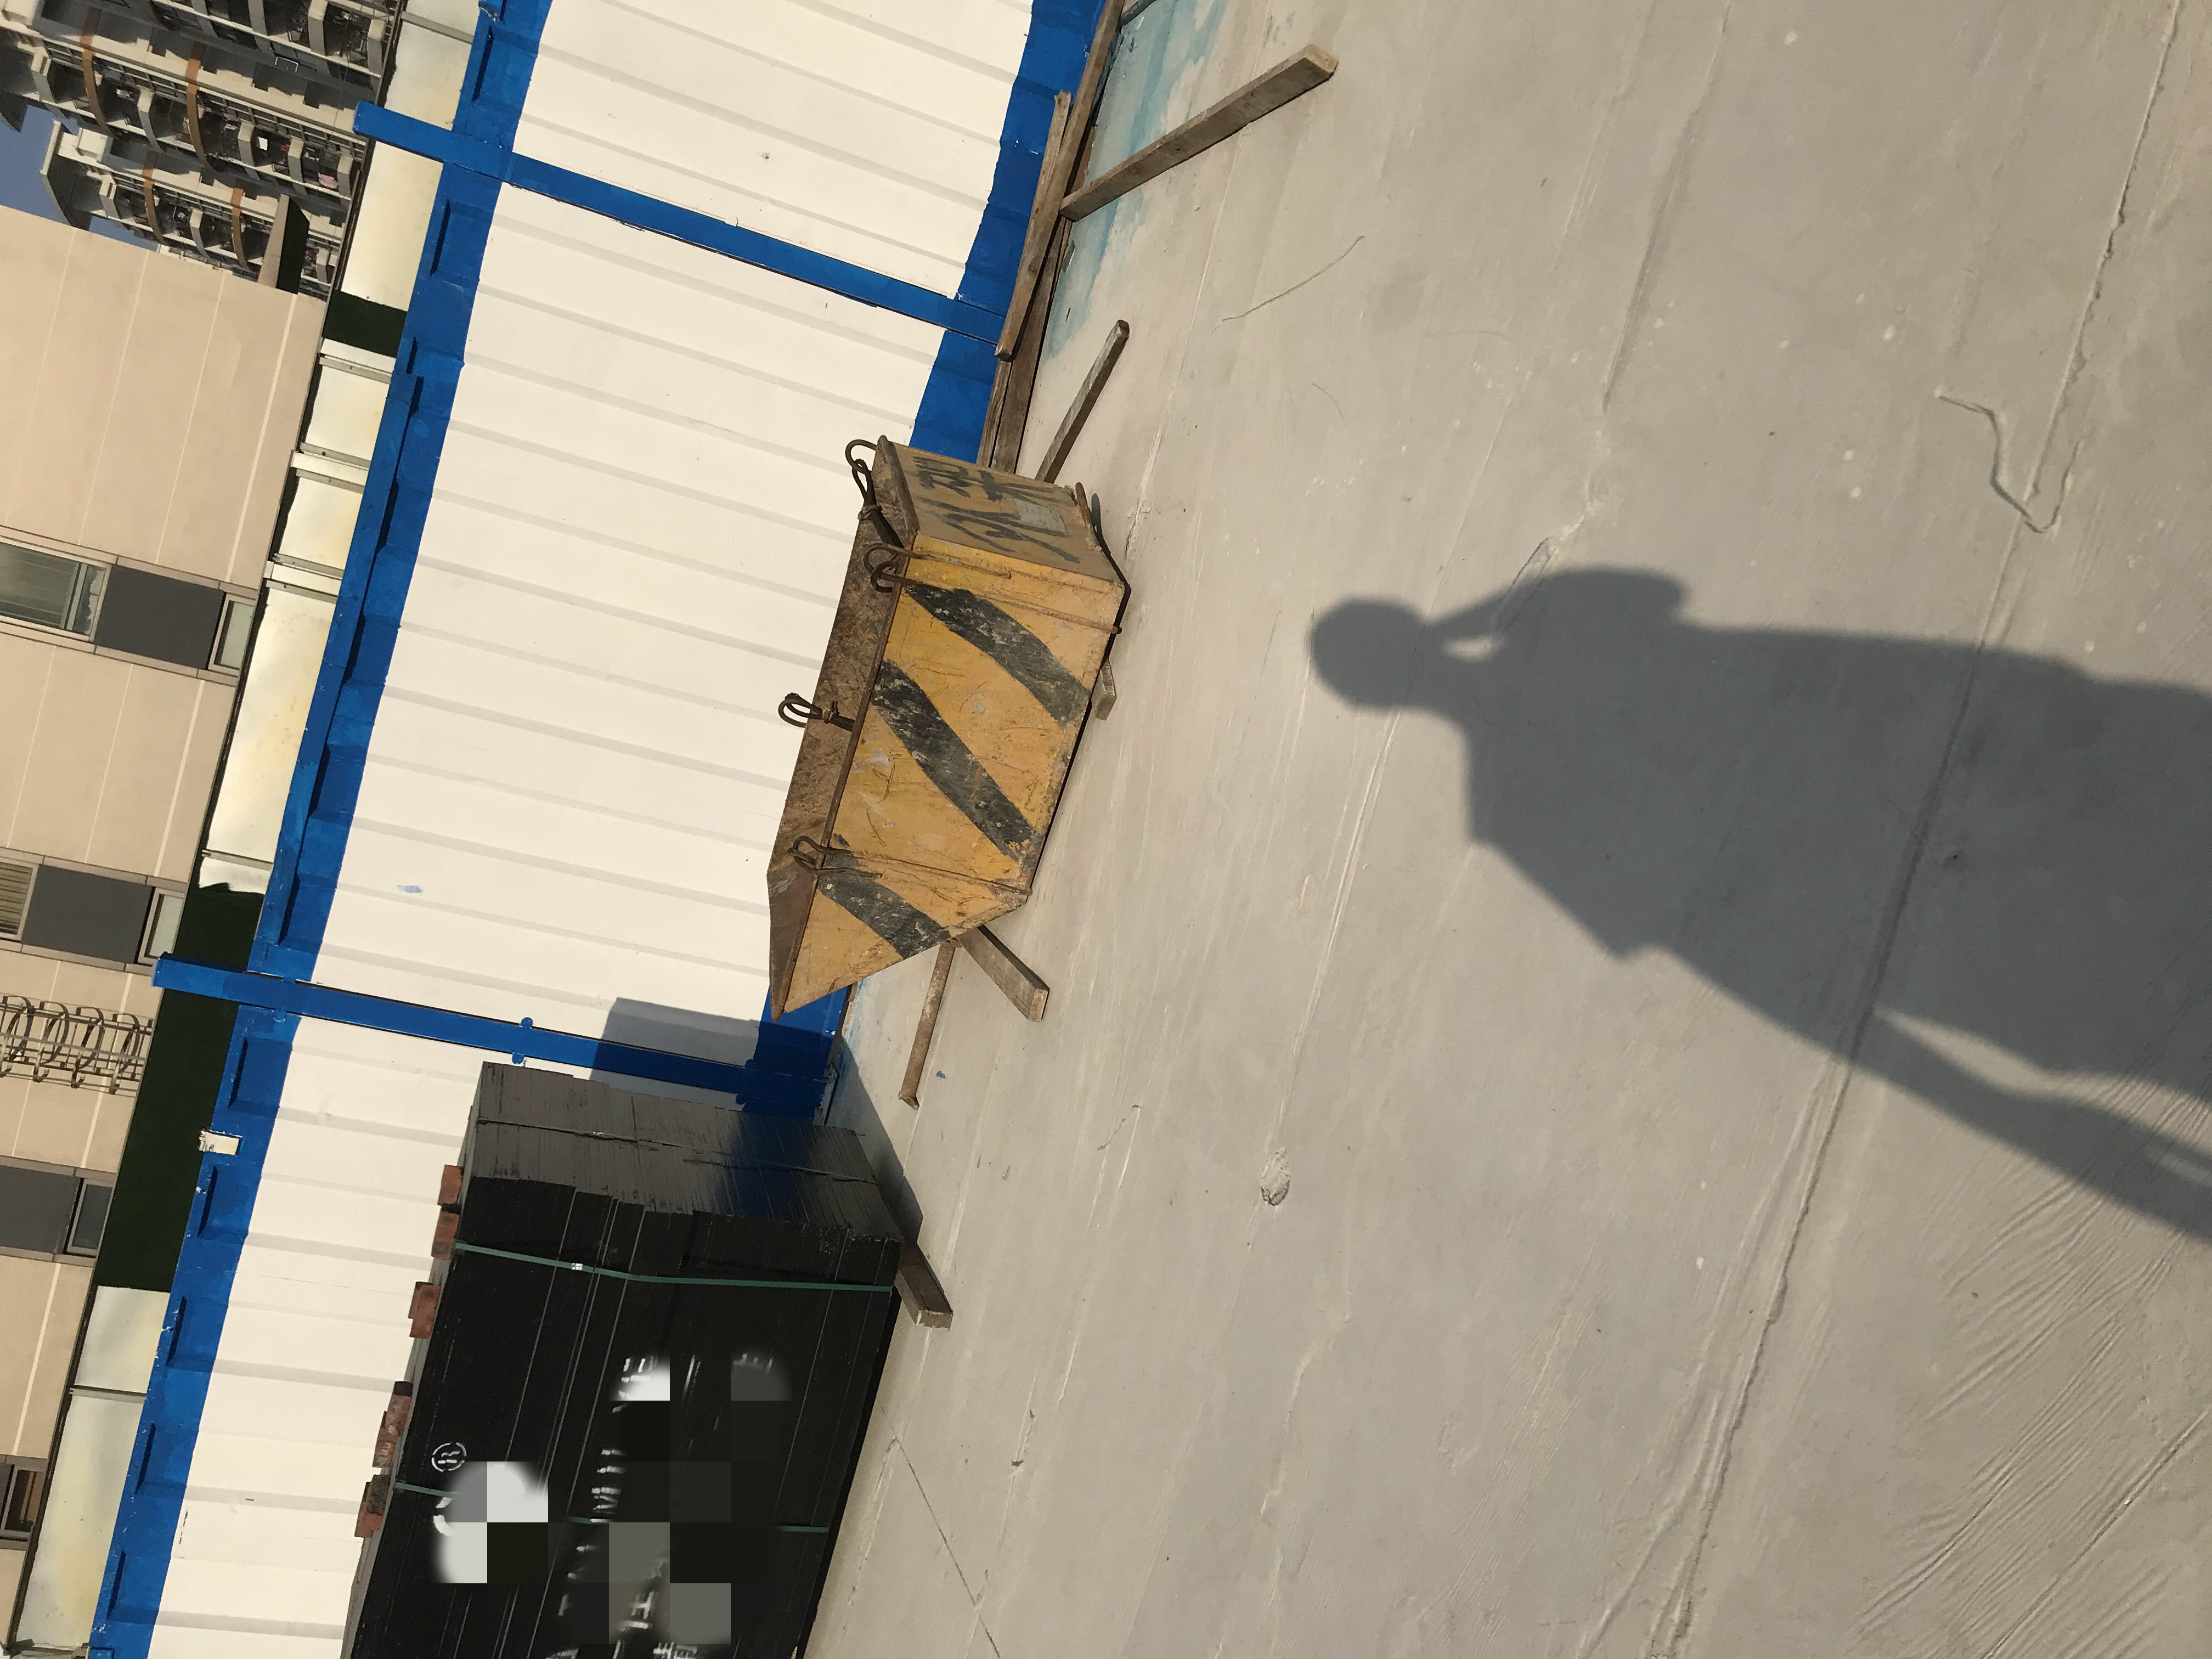hopper: (737, 420, 1137, 1009)
